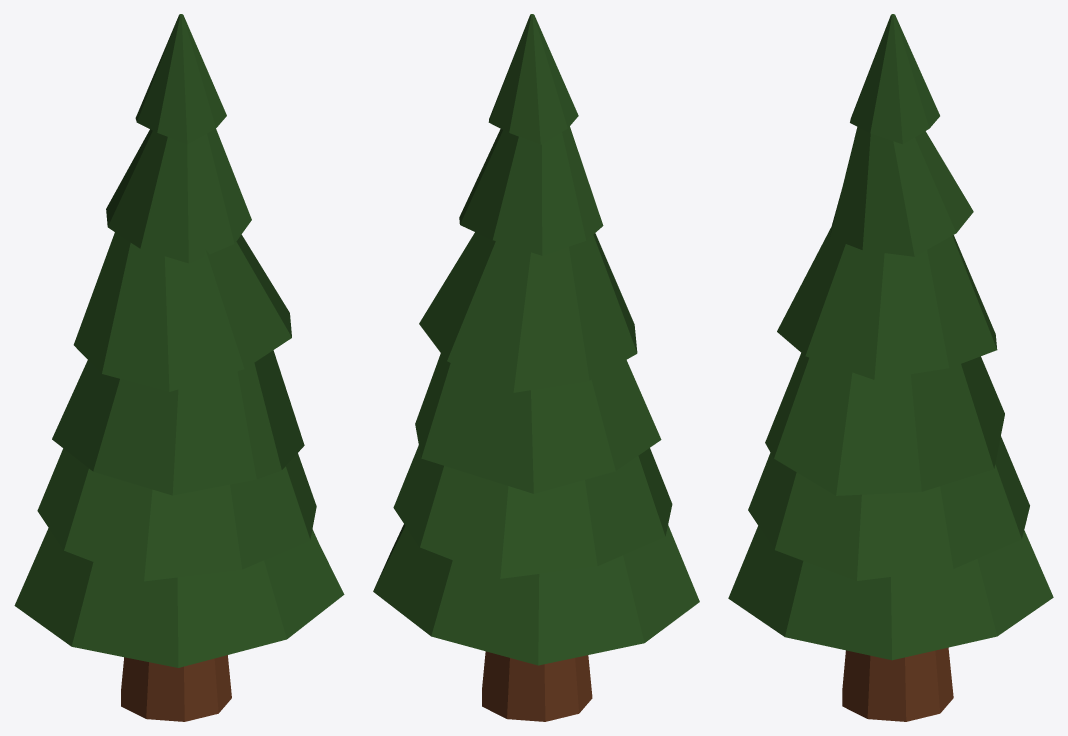
Rendered from tree v2 .fbx.
3 views of the same model, side by side, from view 1: azimuth 30°, elevation 25°; view 2: azimuth 150°, elevation 25°; view 3: azimuth 270°, elevation 25° (orthographic).
Parts seen in each view (by area): view 1: lowpolytree:Mesh; view 2: lowpolytree:Mesh; view 3: lowpolytree:Mesh.
Part boxes in pixels (<box>): lowpolytree:Mesh: <box>14,14,344,721</box>; lowpolytree:Mesh: <box>373,14,699,721</box>; lowpolytree:Mesh: <box>728,14,1053,721</box>.
Size of the model in its own units: 2.21 by 5.12 by 2.2.
